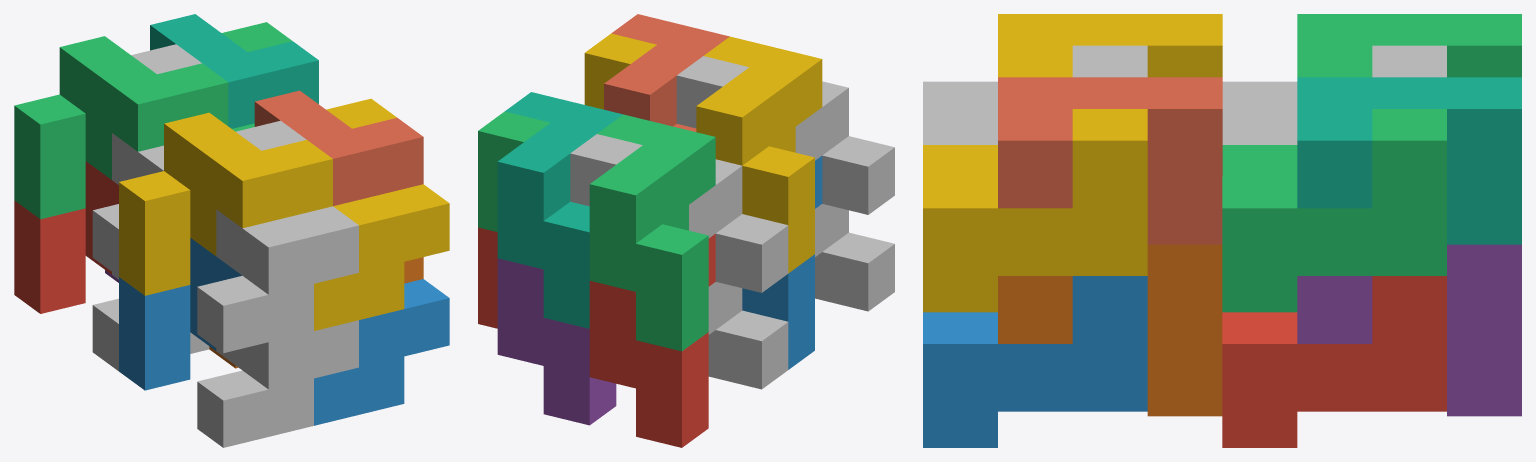
Rendered from tiling.obj.
3 views of the same model, side by side, from view 1: azimuth 30°, elevation 25°; view 2: azimuth 150°, elevation 25°; view 3: azimuth 270°, elevation 25° (orthographic). The views are drawn at different scales.
Visible parts, largest first — view 1: copy_1_domain_4, copy_1_domain_3, copy_2_domain_4, copy_2_domain_2, copy_2_domain_8, copy_2_domain_6, copy_1_domain_8, copy_1_domain_2, copy_1_domain_1, copy_1_domain_7, copy_2_domain_3, copy_2_domain_1 (+2 smaller); view 2: copy_1_domain_3, copy_1_domain_4, copy_1_domain_7, copy_1_domain_1, copy_2_domain_3, copy_2_domain_4, copy_1_domain_5, copy_1_domain_8, copy_2_domain_1, copy_2_domain_2, copy_1_domain_2, copy_2_domain_7 (+2 smaller); view 3: copy_2_domain_7, copy_2_domain_8, copy_2_domain_5, copy_2_domain_6, copy_1_domain_8, copy_1_domain_7, copy_1_domain_6, copy_1_domain_5, copy_1_domain_3, copy_1_domain_4, copy_2_domain_3, copy_2_domain_4.
Part boxes in pixels (bbox=[...]): copy_1_domain_4: bbox=[119, 112, 332, 295]; copy_1_domain_3: bbox=[14, 36, 228, 219]; copy_2_domain_4: bbox=[197, 120, 358, 352]; copy_2_domain_2: bbox=[197, 320, 358, 447]; copy_2_domain_8: bbox=[314, 98, 449, 330]; copy_2_domain_6: bbox=[314, 279, 449, 425]; copy_1_domain_8: bbox=[254, 90, 423, 206]; copy_1_domain_2: bbox=[119, 238, 241, 390]; copy_1_domain_1: bbox=[14, 161, 118, 313]; copy_1_domain_7: bbox=[150, 14, 318, 128]; copy_2_domain_3: bbox=[92, 44, 201, 276]; copy_2_domain_1: bbox=[92, 272, 209, 371]; copy_1_domain_3: bbox=[589, 114, 715, 351]; copy_1_domain_4: bbox=[696, 36, 822, 273]; copy_1_domain_7: bbox=[497, 92, 622, 328]; copy_1_domain_1: bbox=[589, 234, 715, 447]; copy_2_domain_3: bbox=[570, 134, 788, 292]; copy_2_domain_4: bbox=[676, 56, 894, 214]; copy_1_domain_5: bbox=[497, 258, 616, 425]; copy_1_domain_8: bbox=[604, 14, 729, 131]; copy_2_domain_1: bbox=[708, 282, 788, 389]; copy_2_domain_2: bbox=[815, 204, 894, 311]; copy_1_domain_2: bbox=[742, 156, 822, 369]; copy_2_domain_7: bbox=[478, 111, 550, 231]; copy_2_domain_7: bbox=[1222, 109, 1446, 312]; copy_2_domain_8: bbox=[923, 109, 1147, 312]; copy_2_domain_5: bbox=[1222, 276, 1446, 447]; copy_2_domain_6: bbox=[923, 276, 1147, 447]; copy_1_domain_8: bbox=[998, 77, 1222, 244]; copy_1_domain_7: bbox=[1297, 77, 1521, 244]; copy_1_domain_6: bbox=[998, 244, 1222, 416]; copy_1_domain_5: bbox=[1297, 244, 1521, 416]; copy_1_domain_3: bbox=[1297, 14, 1521, 77]; copy_1_domain_4: bbox=[998, 14, 1222, 77]; copy_2_domain_3: bbox=[1222, 45, 1446, 144]; copy_2_domain_4: bbox=[923, 45, 1147, 144].
Size of the model in its own units: 5 by 5 by 8.
